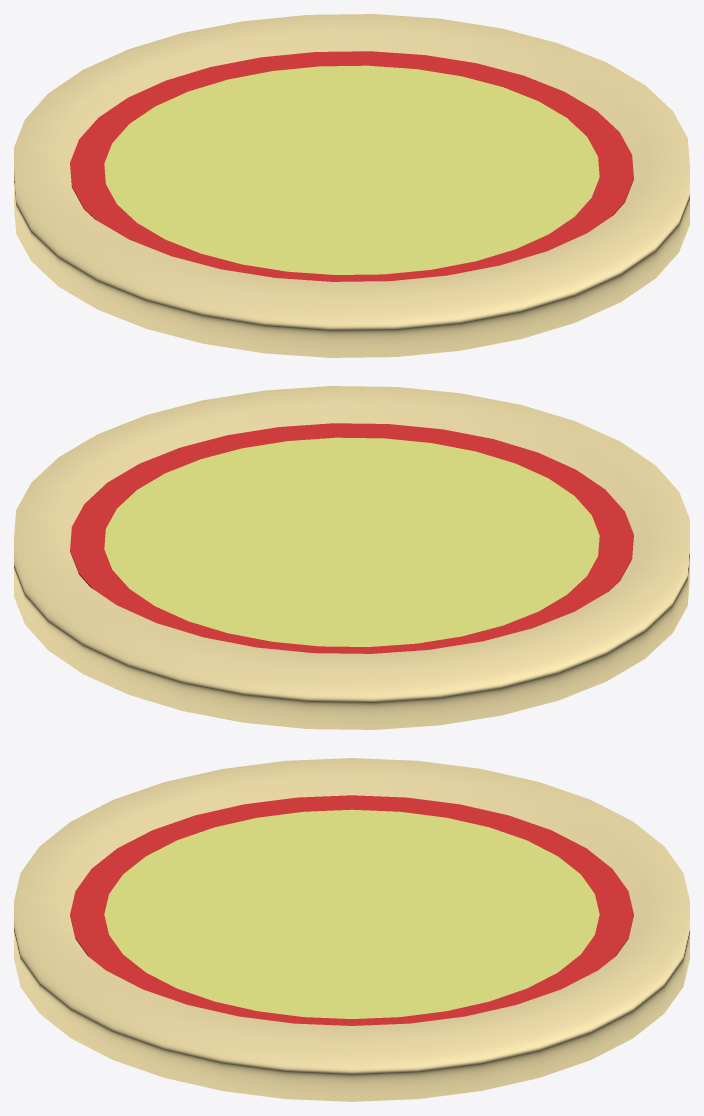
File: FlattenedDoughCheese.glb
3 views of the same model, one above another, from view 1: azimuth 30°, elevation 25°; view 2: azimuth 150°, elevation 25°; view 3: azimuth 270°, elevation 25° (orthographic).
Parts seen in each view (by area): view 1: Sauce.001, Dough; view 2: Sauce.001, Dough; view 3: Sauce.001, Dough.
Boxes of the visible parts, x1,y1,x2,y2 form: Sauce.001: (70, 51, 633, 281); Dough: (14, 14, 689, 357); Sauce.001: (70, 423, 633, 653); Dough: (14, 386, 689, 729); Sauce.001: (70, 795, 633, 1025); Dough: (14, 758, 689, 1101).
Bounding box in the file's own units: 2 × 0.1899 × 2.
